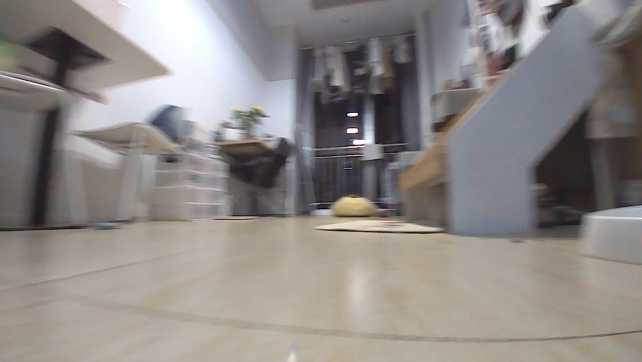blanket: (311, 217, 445, 236)
